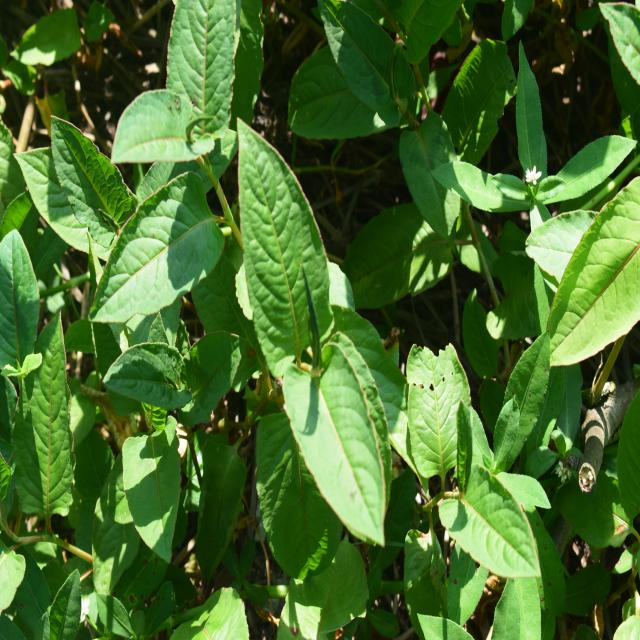Chinese_knotweed: (230, 124, 410, 531), (79, 16, 285, 340)
